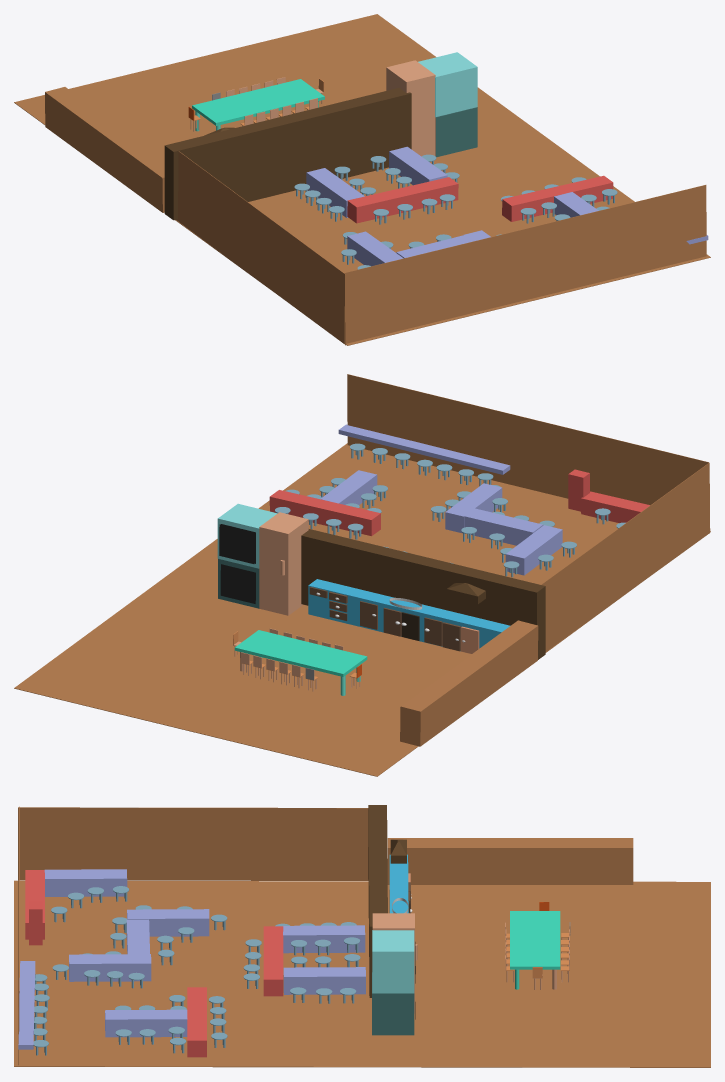
File: esenari.fbx
The picture shows the model from 3 angles, top to bottom: view 1: azimuth 30°, elevation 25°; view 2: azimuth 150°, elevation 25°; view 3: azimuth 270°, elevation 25°; orthographic projection. The views are drawn at different scales.
Parts seen in each view (by area): view 1: Cube.015, Cube.004, Cube.018, Cube.005, Cube.024, Cube.017, Cube.008, Cube.021, Cube.009, Cube.020, Cube.012, Cube.013 (+1 smaller); view 2: Cube.015, Cube.004, Cube.017, Cube.018, Cube.024, Cube.005, Cube.012, Cube.021, Cube.009, Cube.014, Cube.020, Cube.002 (+2 smaller); view 3: Cube.015, Cube.005, Cube.004, Cube.017, Cube.008, Cube.024, Cube.018, Cube.021, Cube.002, Cube.012, Cube.010, Cube.020 (+5 smaller).
Boxes of the visible parts, x1,y1,x2,y2 form: Cube.015: [14, 14, 710, 345]; Cube.004: [176, 151, 706, 345]; Cube.018: [164, 88, 411, 220]; Cube.005: [179, 151, 345, 343]; Cube.024: [188, 60, 435, 156]; Cube.017: [45, 87, 164, 212]; Cube.008: [306, 146, 458, 223]; Cube.021: [418, 52, 477, 117]; Cube.009: [502, 175, 613, 221]; Cube.020: [435, 107, 477, 157]; Cube.012: [347, 232, 484, 266]; Cube.013: [347, 231, 403, 264]; Cube.015: [14, 443, 710, 776]; Cube.004: [341, 374, 708, 651]; Cube.017: [308, 579, 538, 746]; Cube.018: [301, 529, 545, 659]; Cube.024: [233, 512, 367, 695]; Cube.005: [541, 462, 710, 602]; Cube.012: [445, 485, 562, 575]; Cube.021: [217, 503, 277, 568]; Cube.009: [269, 490, 380, 536]; Cube.014: [338, 424, 509, 474]; Cube.020: [218, 558, 259, 608]; Cube.002: [568, 469, 649, 522]; Cube.015: [14, 880, 710, 1067]; Cube.005: [18, 807, 368, 880]; Cube.004: [18, 806, 367, 1065]; Cube.017: [387, 838, 633, 913]; Cube.008: [263, 925, 365, 996]; Cube.024: [372, 902, 570, 1013]; Cube.018: [368, 805, 406, 997]; Cube.021: [372, 930, 415, 993]; Cube.002: [25, 869, 126, 945]; Cube.012: [69, 909, 209, 971]; Cube.010: [105, 1009, 187, 1037]; Cube.020: [372, 972, 415, 1035].
Size of the model in its own units: 5460 by 1175 by 8537.
